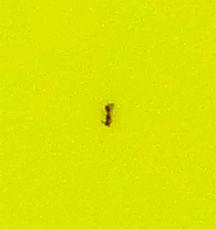Hymenoptera: (100, 100, 116, 129)
